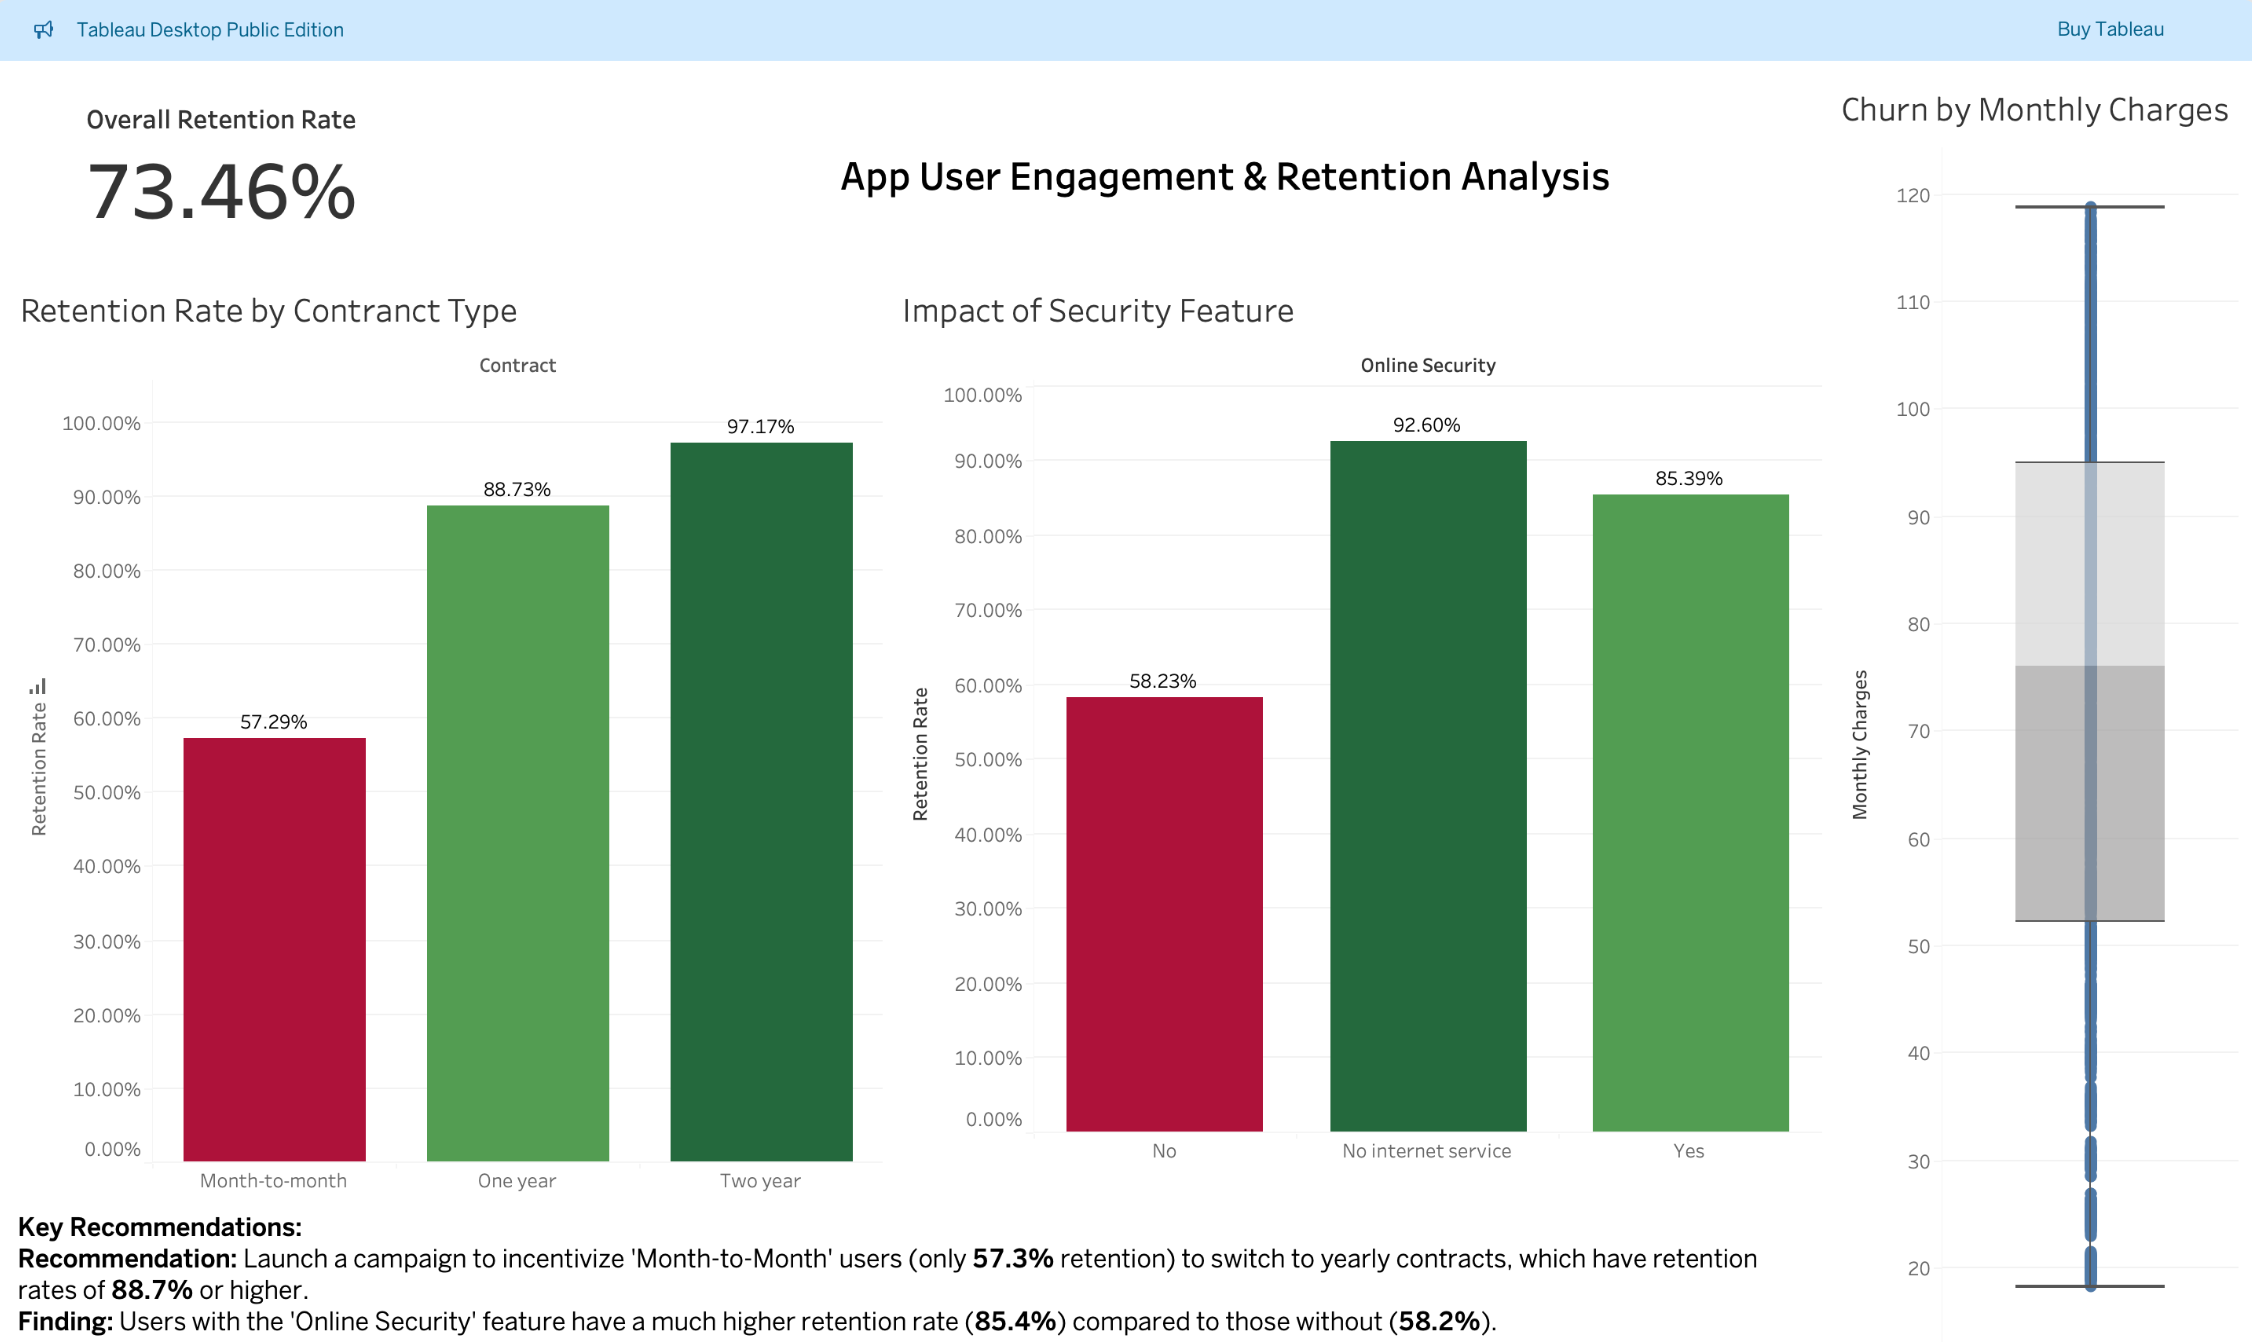

Layout of this report page (visuals, bound fields, positions):
{"tool":"tableau","page":{"name":"Dashboard 1","canvas":[1000,1000],"units":"permille","ordinal":0},"visuals":[{"type":"worksheet","title":"Overall Retention Rate","mark":"Automatic","box":[6.5,10.4,271.8,153.6]},{"type":"text","box":[278.3,10.4,531.3,153.6]},{"type":"worksheet","title":"Churn by Monthly Charges","mark":"Circle","rows":["MonthlyCharges"],"box":[809.6,10.4,183.9,979.2]},{"type":"worksheet","title":"Retention by Contract","mark":"Automatic","rows":["Calculation_3548414333149265920"],"cols":["Contract"],"box":[6.5,164.1,388.9,709.6]},{"type":"worksheet","title":"Impact of Security Feature","mark":"Automatic","rows":["Calculation_3548414333149265920"],"cols":["OnlineSecurity"],"box":[395.4,164.1,414.2,709.6]},{"type":"text","box":[6.5,873.7,803.1,115.9]}]}

Visuals, with their boxes on the dashboard's canvas, which has no fixed pixel size, in thousandths of its width and height (x1, y1, x2, y2). These are canvas units, not pixel positions in the 2252x1342 screenshot, which may show the page scaled, cropped or inside an application window:
"Overall Retention Rate" worksheet: pyautogui.locateOnScreen(6, 10, 278, 164)
text: pyautogui.locateOnScreen(278, 10, 810, 164)
"Churn by Monthly Charges" worksheet (Circle marks): pyautogui.locateOnScreen(810, 10, 994, 990)
"Retention by Contract" worksheet: pyautogui.locateOnScreen(6, 164, 395, 874)
"Impact of Security Feature" worksheet: pyautogui.locateOnScreen(395, 164, 810, 874)
text: pyautogui.locateOnScreen(6, 874, 810, 990)
